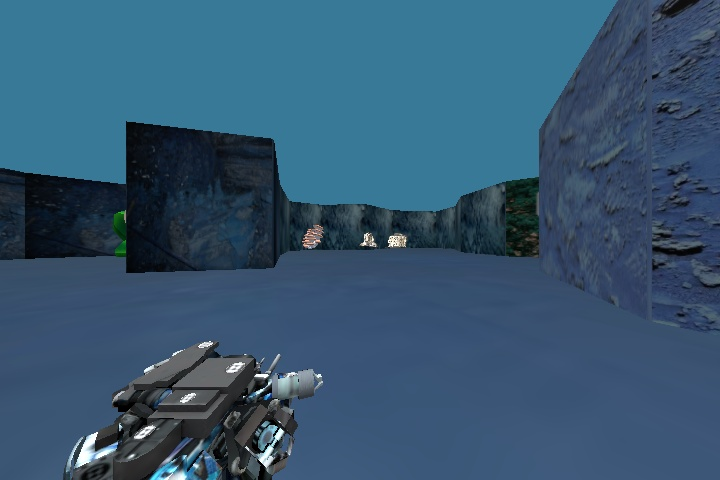formation: (386, 229, 413, 250), (358, 226, 376, 249)
mushrooms: (292, 219, 326, 252)
